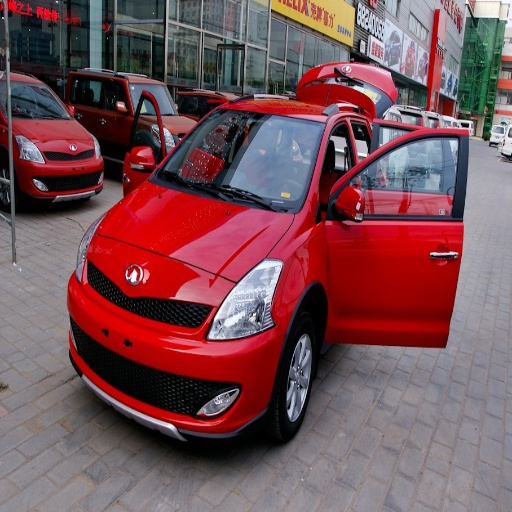front_bumper: (97, 277, 287, 438)
front_glass: (150, 109, 323, 212)
front_left_door: (320, 119, 445, 337)
